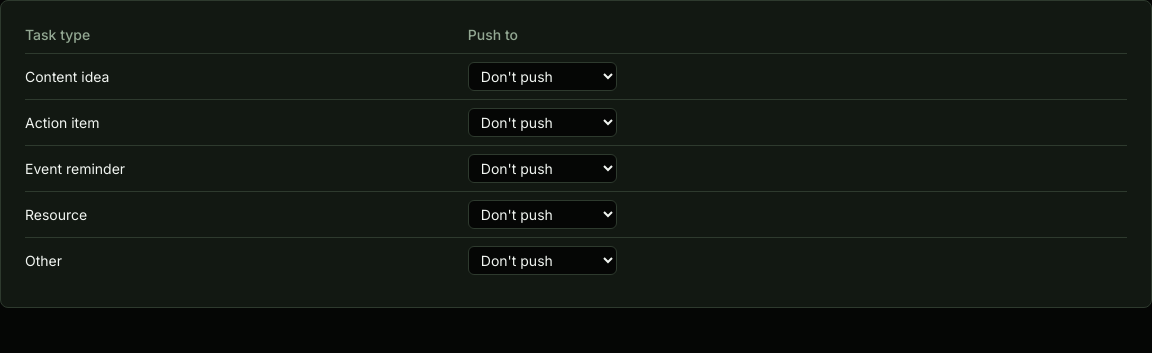
Scenario: reverts the selection and shows an error if saving fails
The image size is (1152, 353).
Select "Notion" in the dropdown named "action item": (542, 122) [468,108,617,137]
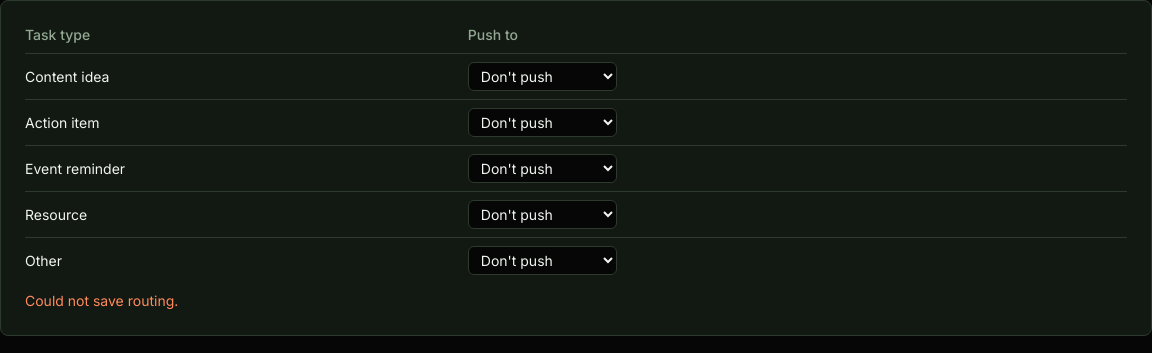
Expected: the text "Could not save routing." is shown, [25,292,178,309]
